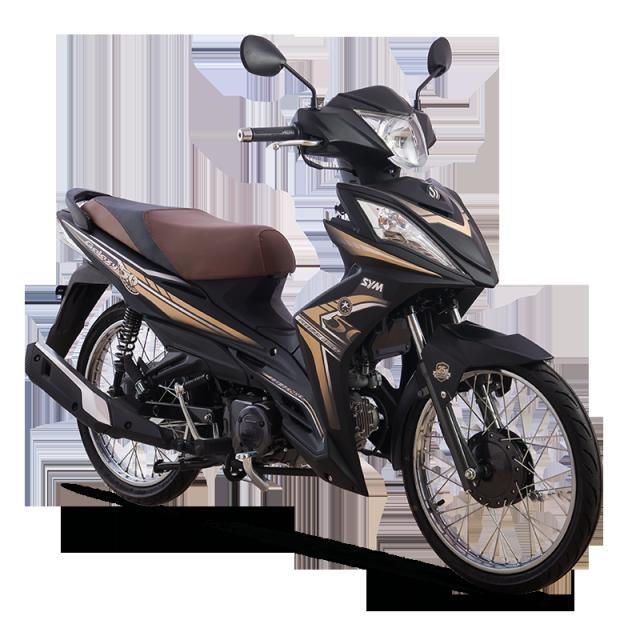Motorcycle: (13, 22, 613, 596)
